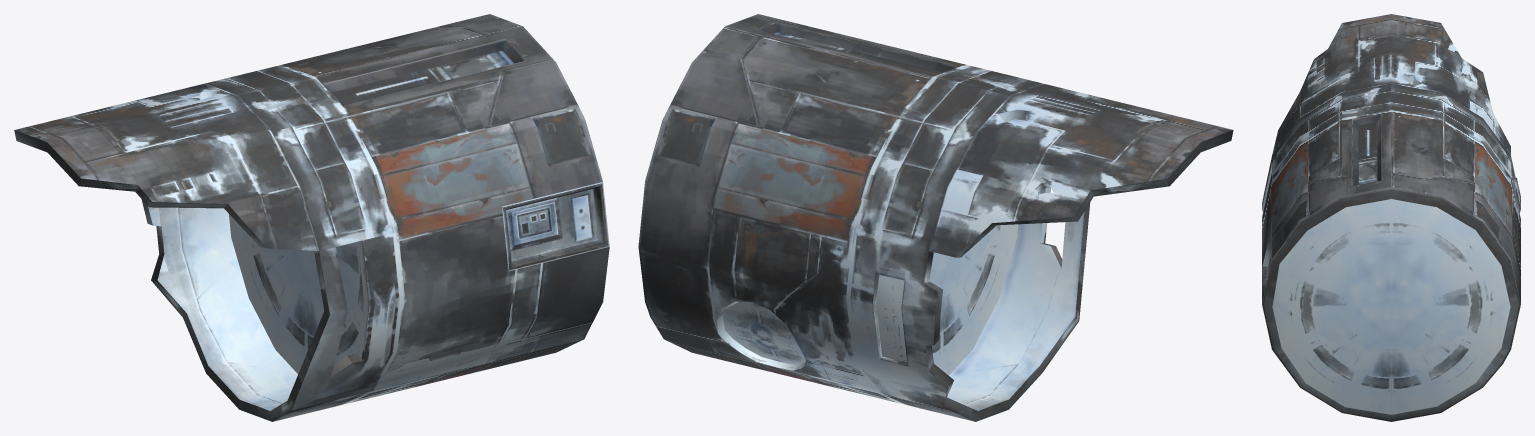
File: hth_item_junk_02.glb
3 views of the same model, side by side, from view 1: azimuth 30°, elevation 25°; view 2: azimuth 150°, elevation 25°; view 3: azimuth 270°, elevation 25° (orthographic). The views are drawn at different scales.
Visible parts, largest first — view 1: hth_item_junk_02; view 2: hth_item_junk_02; view 3: hth_item_junk_02.
Part boxes in pixels (bbox=[...]): hth_item_junk_02: bbox=[14, 14, 609, 421]; hth_item_junk_02: bbox=[638, 14, 1233, 421]; hth_item_junk_02: bbox=[1262, 14, 1520, 421].
Bounding box in the file's own units: 0.4093 × 0.2549 × 0.2549.
Materials: 1 (1 with a texture image).
